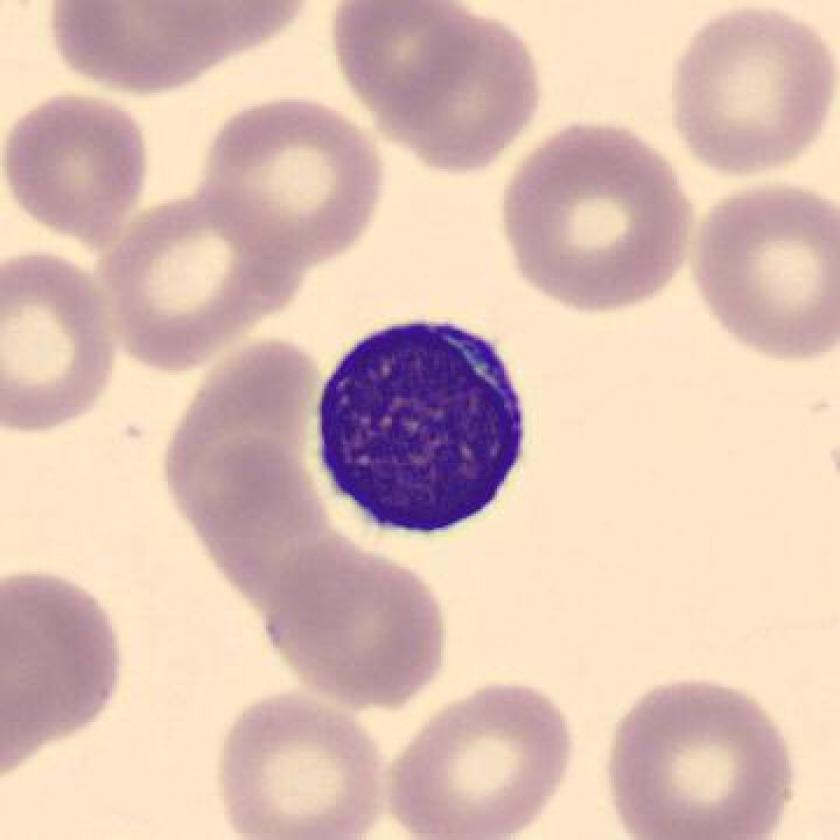lymphocyte: (304, 304, 538, 554)
